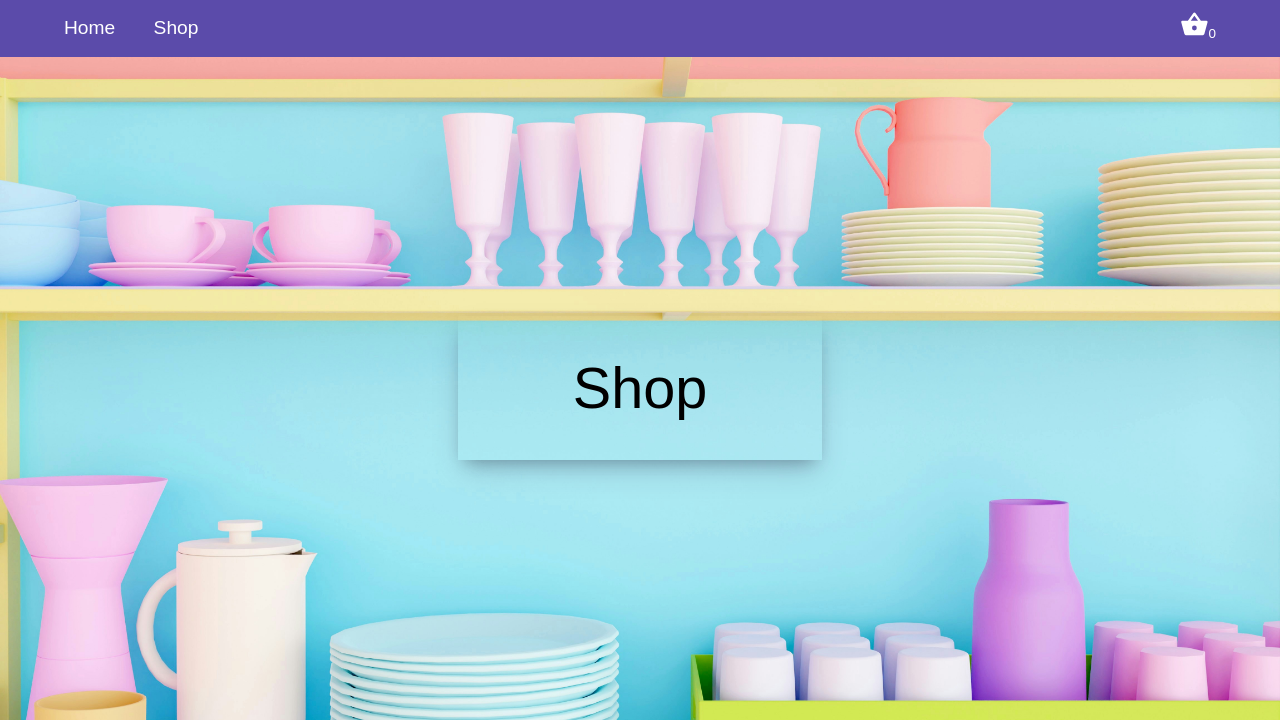
Test case: App integration tests › Updating the basket contents › adds correct number of items to basket
The image size is (1280, 720).
Click the link "Shop" next to "Home". click: click(176, 28)
box: [154,17,198,38]
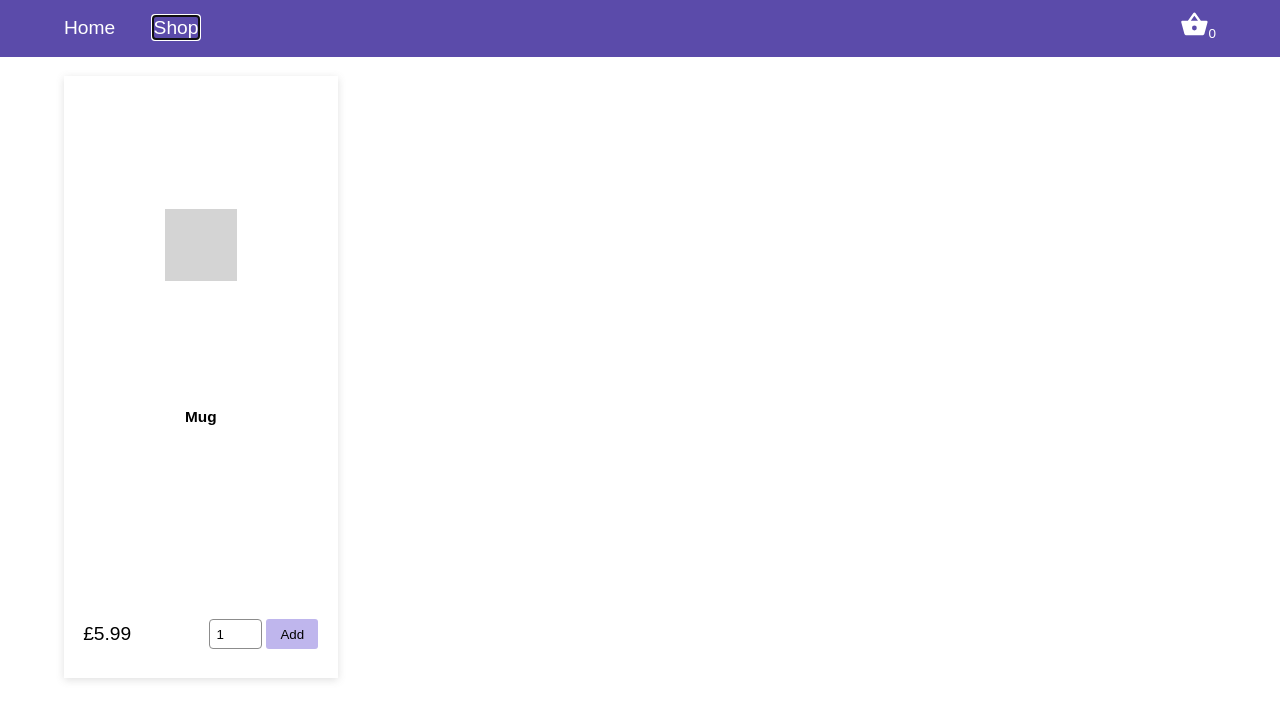
Replace the text in the number field with "3". click: (236, 634)
box: [209,619,262,650]
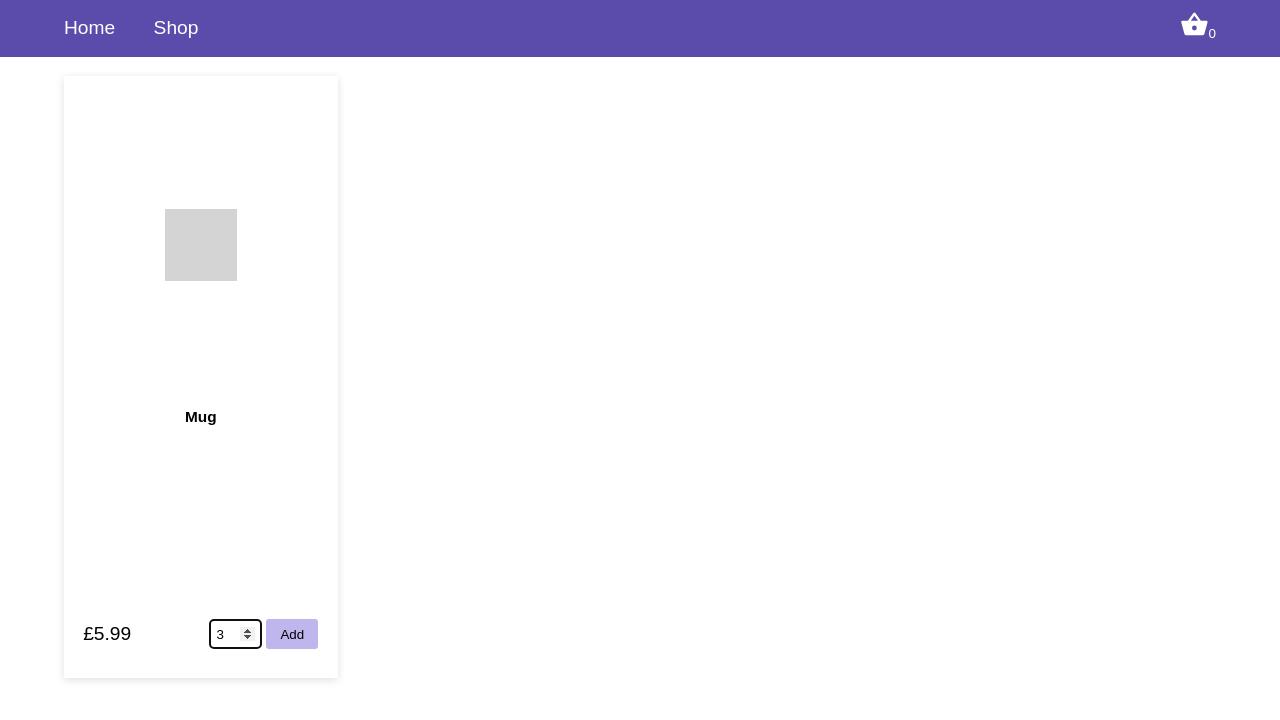
Click the button "Add". click: click(292, 634)
box: [266,619,318,650]
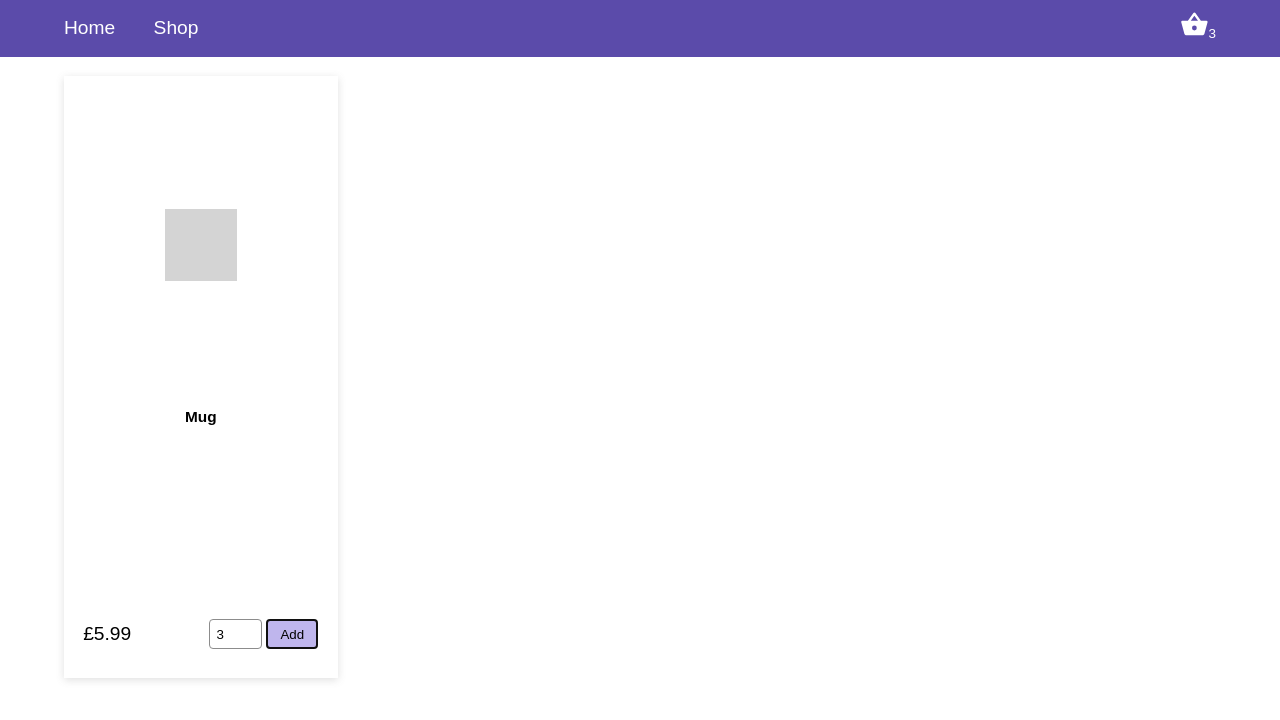
Expected: the text named "basket-count" reads "3", [1208,26,1216,41]
Note: go to basket page and check item with correct quantity is present
Click the link named "basket". click: click(1198, 32)
box: [1180,21,1216,42]
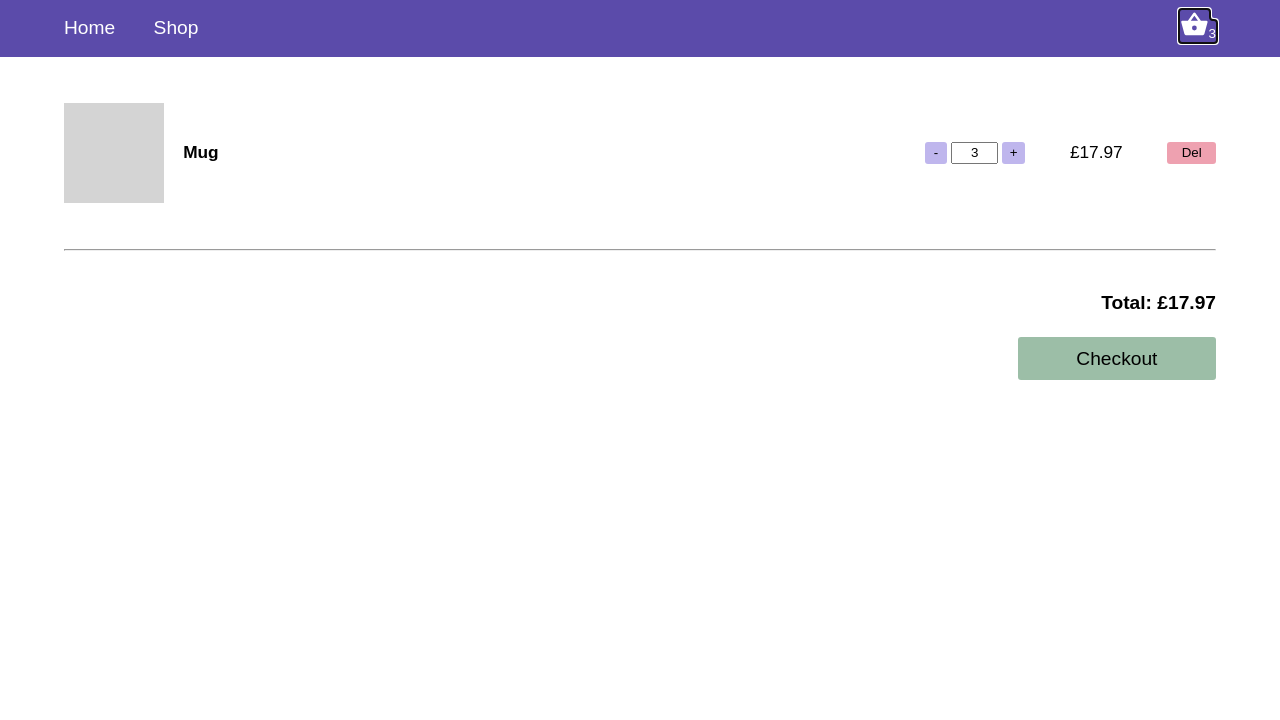
Expected: the number field holds "3", [951,142,998,164]
